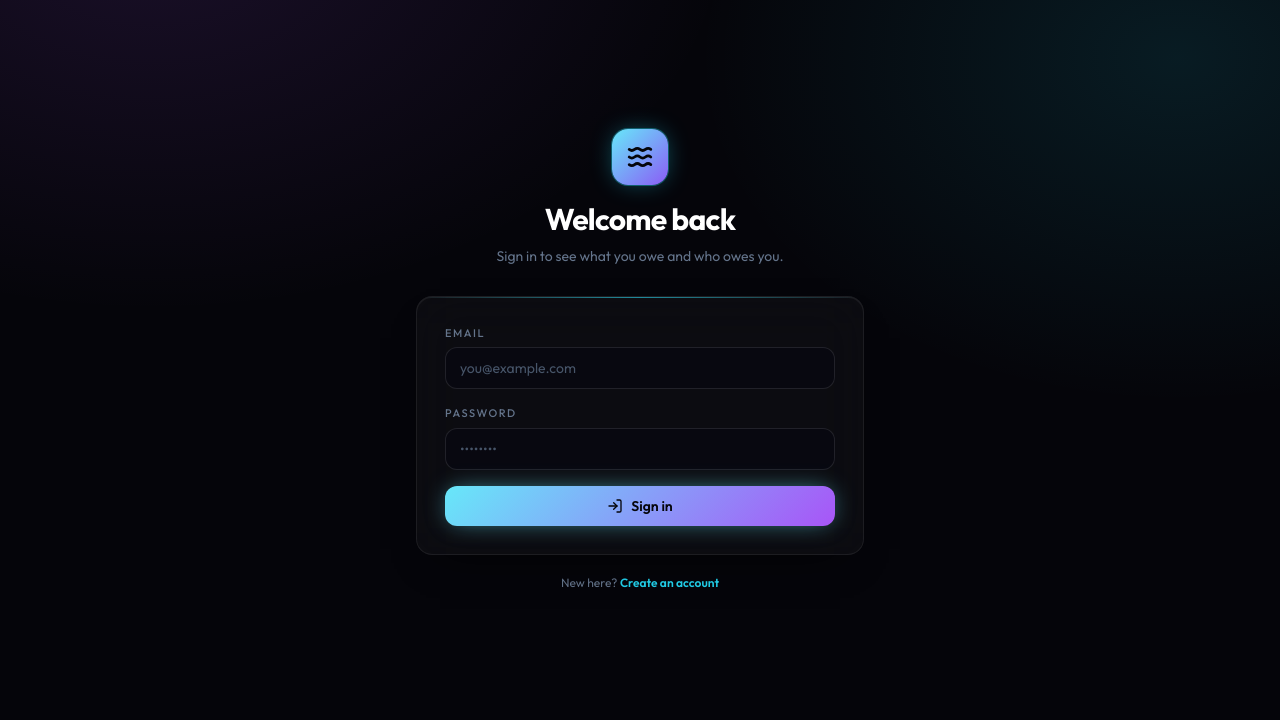
LoginPage › blocks submission and shows a message when the email is malformed
This screenshot has width=1280, height=720.
Type "not-an-email" into the field labelled "Email" at x=640, y=368, box [445,347,835,389]
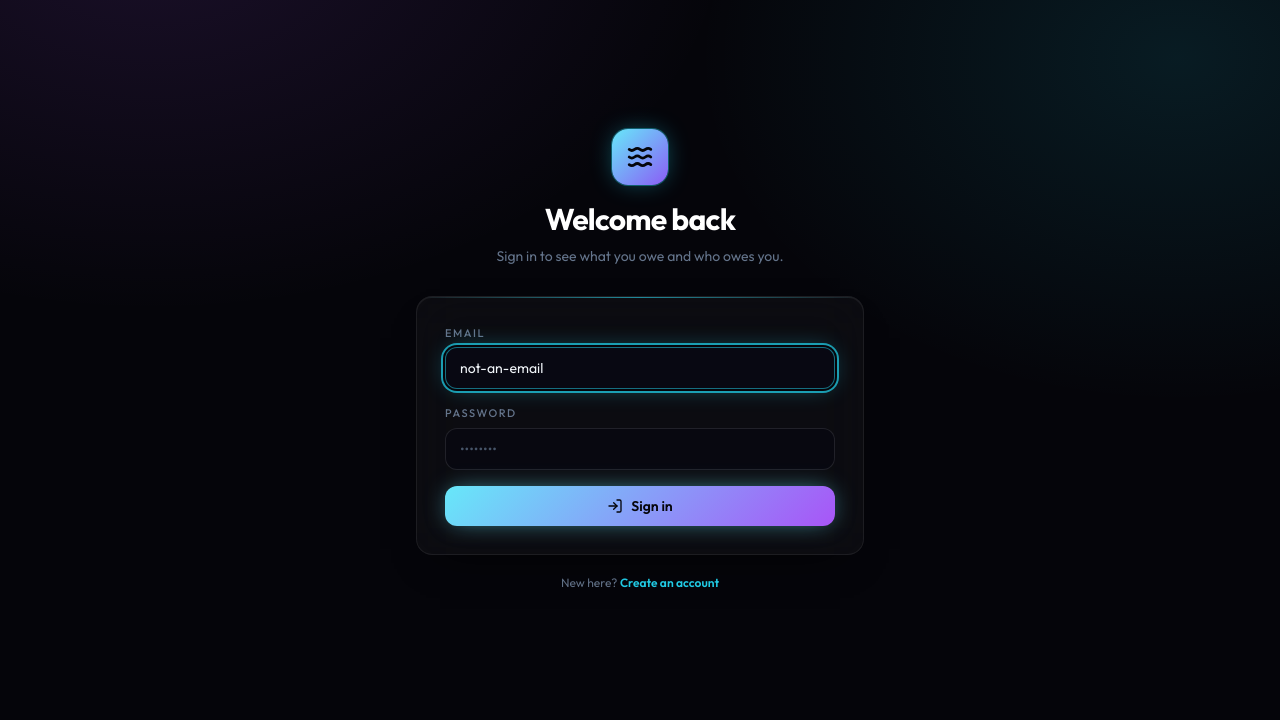
Type "correct-horse" into the password field labelled "Password" at x=640, y=449, box [445,428,835,470]
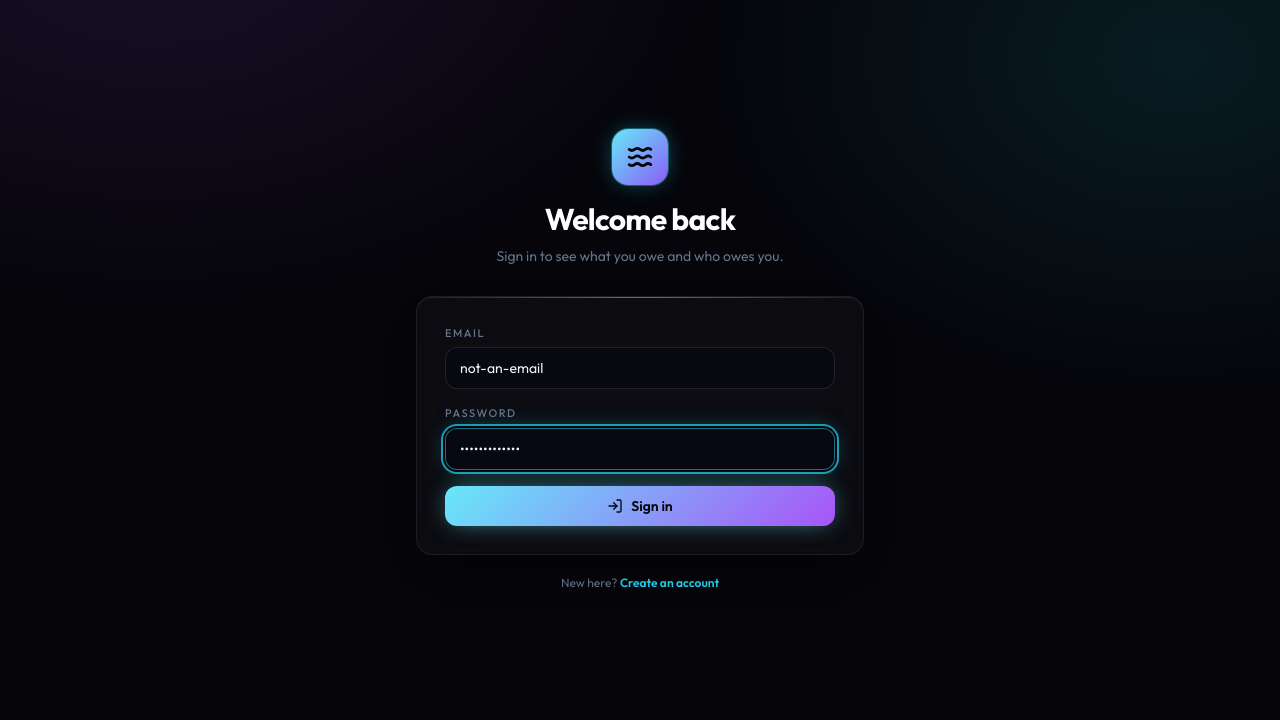
Click the button "Sign in" at x=640, y=506, box [445,486,835,526]
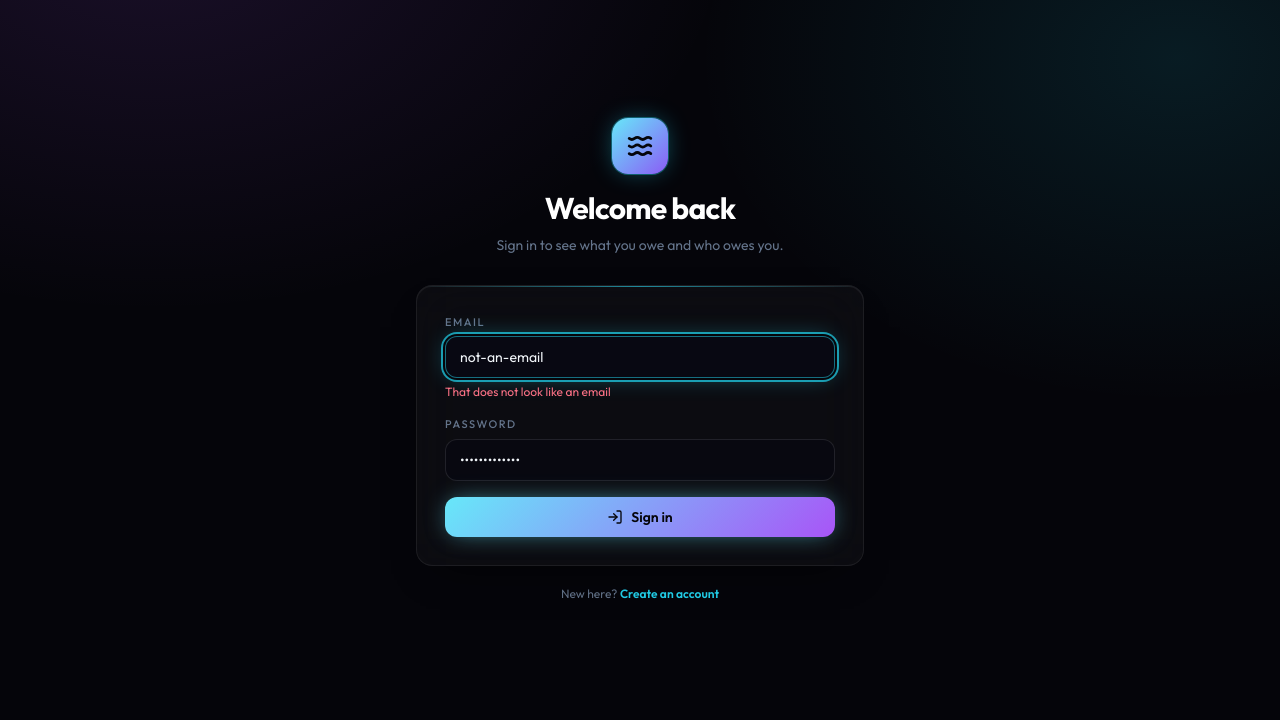
Expected: the text "That does not look like an email" is shown, [445,384,611,399]
